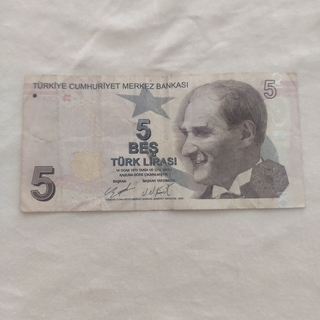5TLFront: (18, 71, 305, 214)
